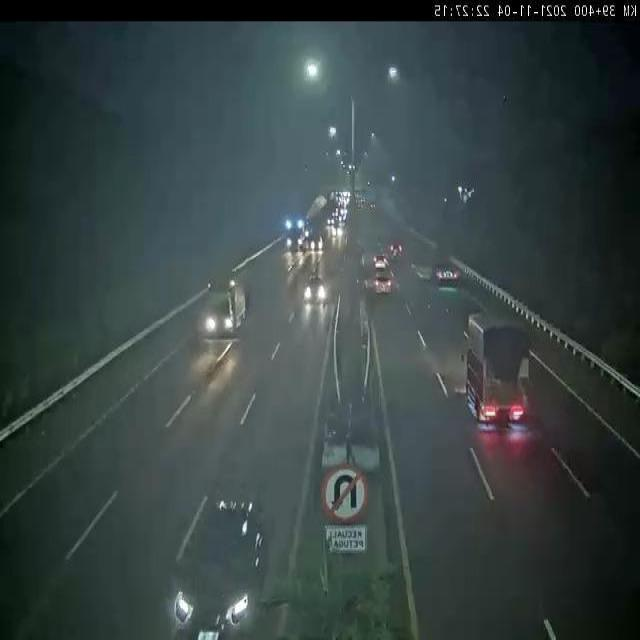Bus: (451, 299, 545, 437), (281, 208, 309, 255)
Car: (159, 484, 286, 640), (304, 276, 331, 314), (435, 257, 465, 291), (370, 268, 397, 300), (390, 235, 413, 262), (308, 228, 326, 256), (372, 249, 392, 273)
Van: (197, 265, 257, 344)
